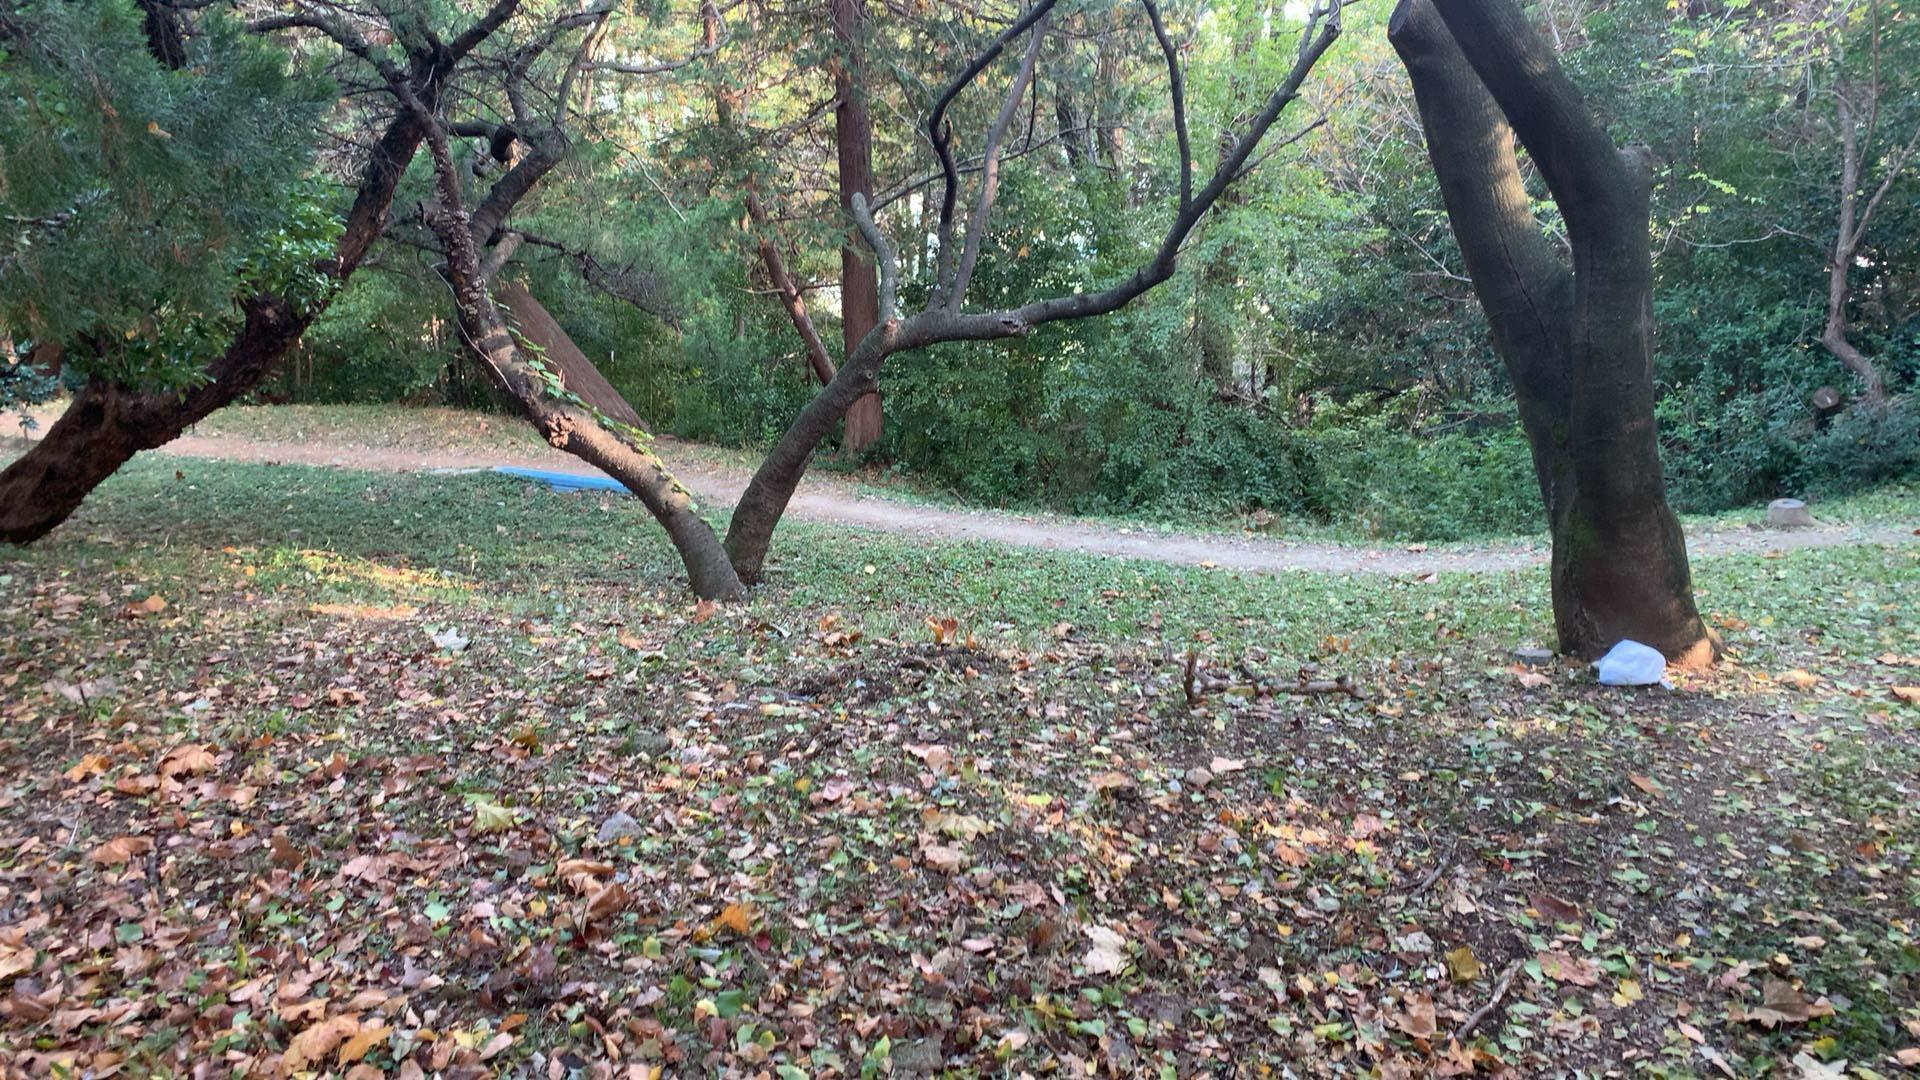white_bag: (1588, 634, 1683, 698)
